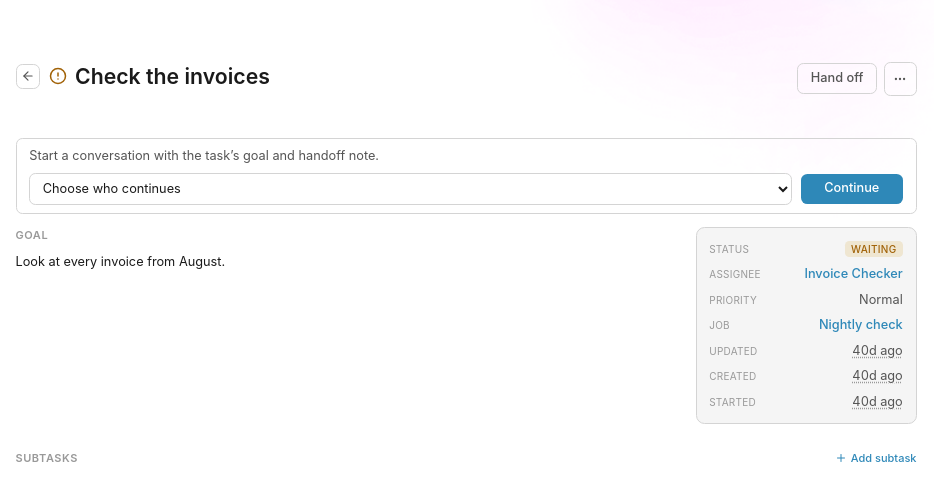
it: a task whose conversation is gone › reserves no space for an error until there is one
The image size is (934, 500).
expect the heading "Check the invoices" is shown: met, box [75, 62, 270, 91]
expect the dropdown named "Continue with" is shown: met, box [29, 173, 792, 205]
Click the button "Continue".
click(852, 189)  # box [801, 174, 903, 204]
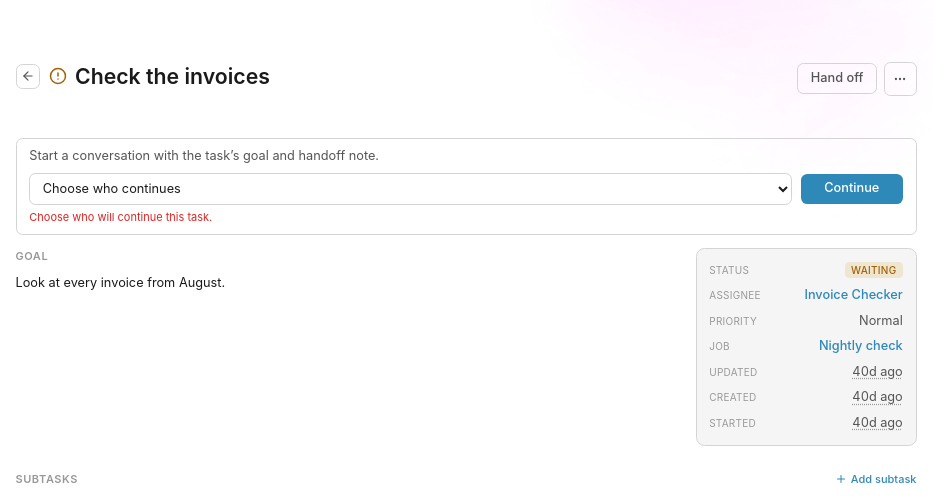
expect the message "Choose who will continue this task." is shown: met, box [29, 210, 212, 224]
